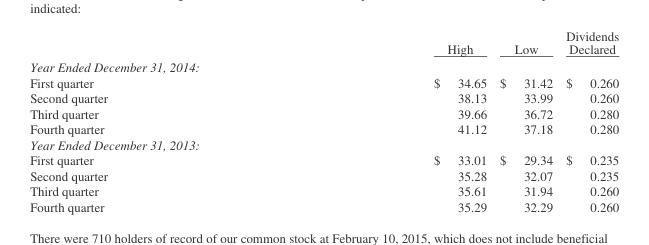table: (29, 28, 618, 213)
table column: (29, 28, 269, 213), (269, 28, 492, 213), (492, 28, 558, 213), (558, 28, 618, 213)
table column header: (29, 28, 618, 57)
table projected row header: (29, 57, 618, 74), (29, 136, 618, 152)
table row: (29, 28, 618, 57), (29, 57, 618, 74), (29, 74, 618, 90), (29, 105, 618, 121), (29, 136, 618, 152), (29, 167, 618, 183), (29, 90, 618, 105), (29, 121, 618, 136), (29, 152, 618, 167), (29, 183, 618, 198), (29, 198, 618, 213)
